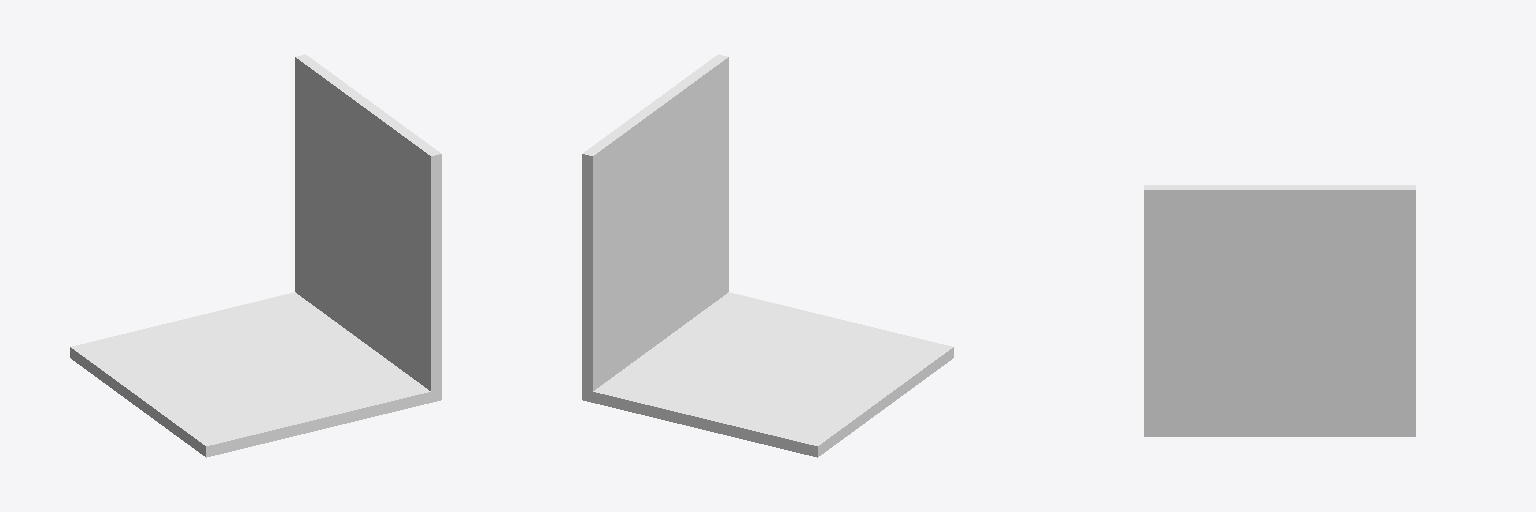
The model's file is mesh_hanger_floor_corner_one_wall-2-0.obj.
The picture shows the model from 3 angles: view 1: azimuth 30°, elevation 25°; view 2: azimuth 150°, elevation 25°; view 3: azimuth 270°, elevation 25°; orthographic projection.
Visible parts, largest first — view 1: object 1; view 2: object 1; view 3: object 1.
Part boxes in pixels (x1,y1,x2,y2): object 1: (70,54,441,457); object 1: (582,54,953,457); object 1: (1144,185,1415,436).
Size of the model in its own units: 4.4 by 4.4 by 4.4.